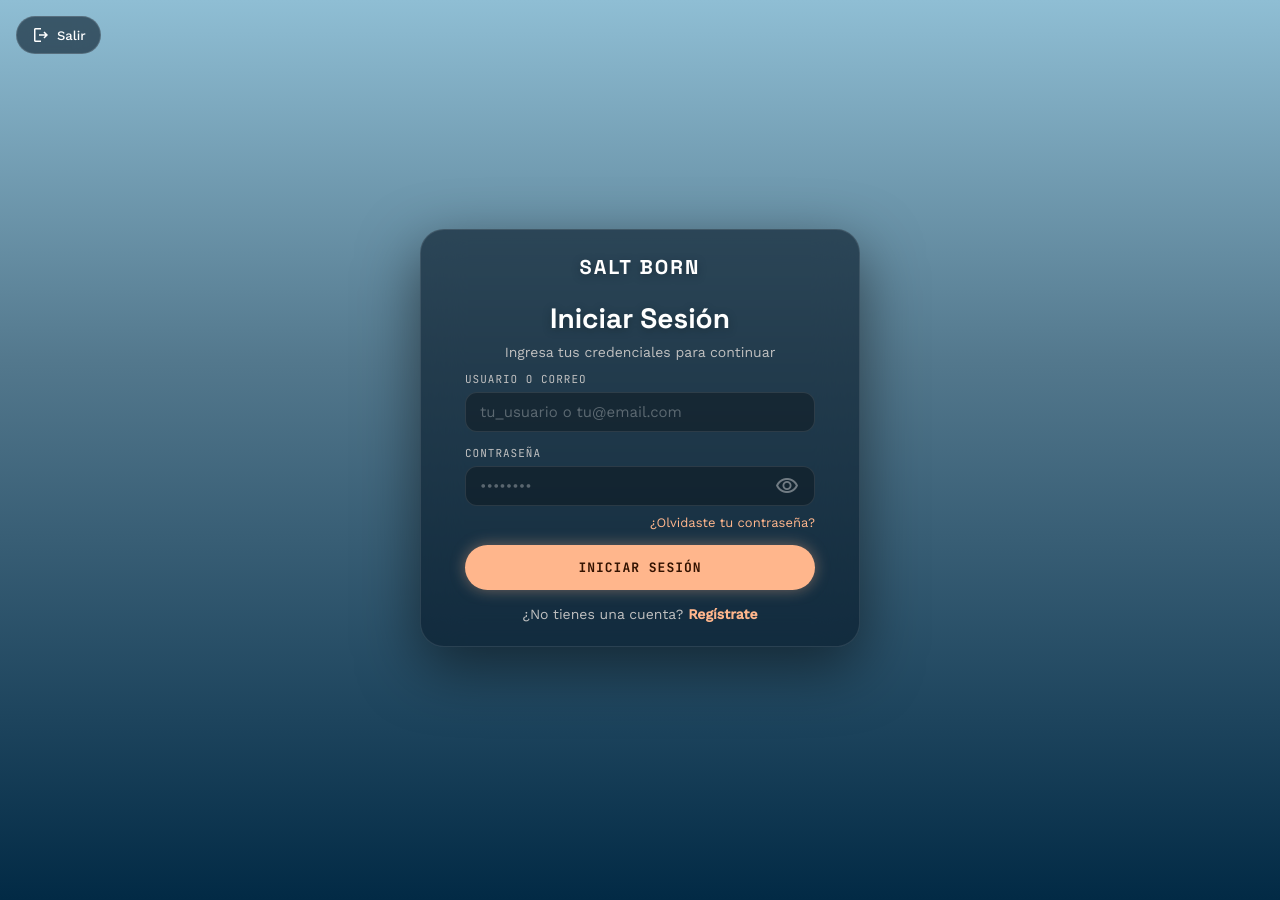
Login › muestra el error del backend si el login falla
Step 1. Type "testuser" into the field labelled "Usuario o Correo" → {"x": 640, "y": 412}, box [465,392,815,432]
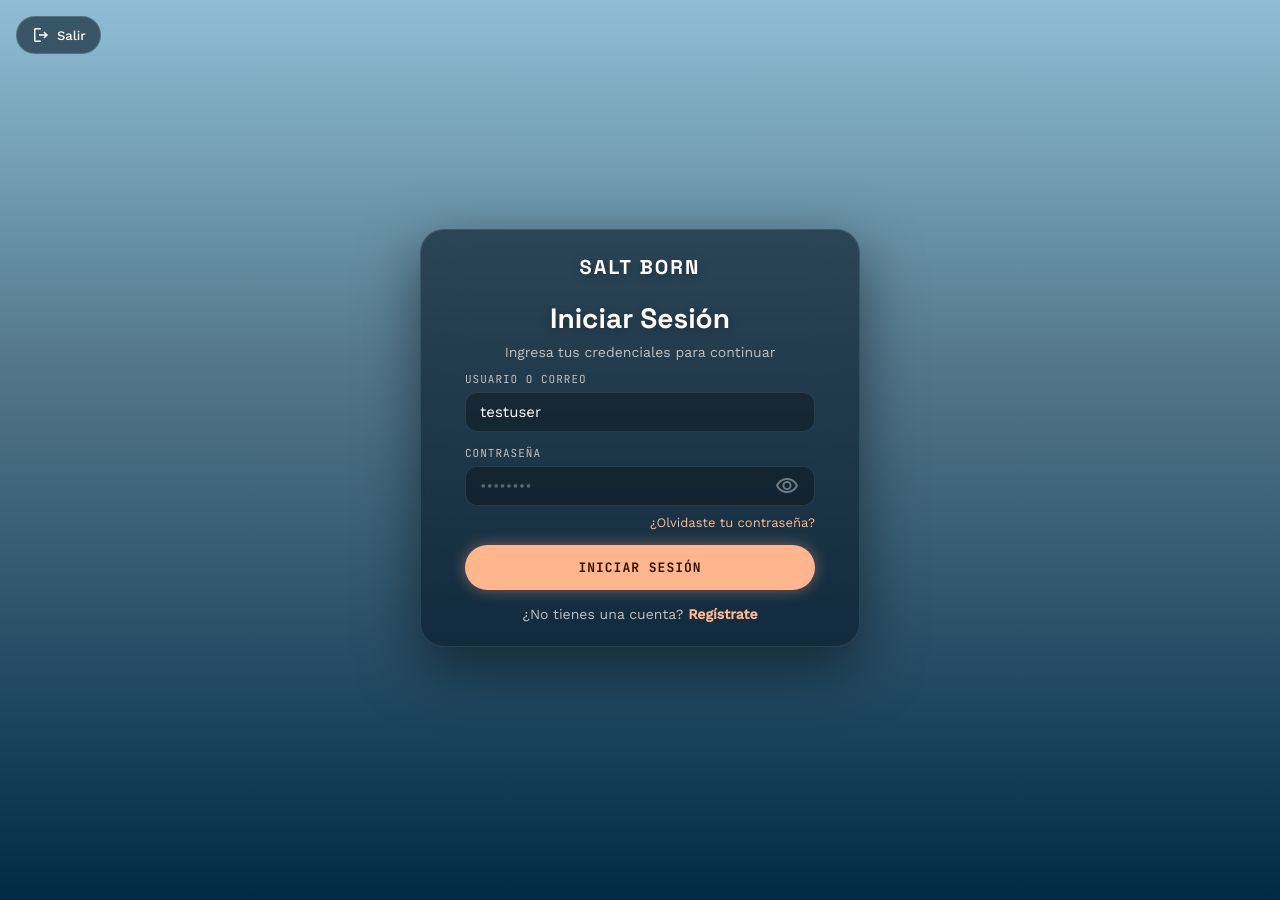
Step 2. Type "wrongpass" into the password field labelled "Contraseña" → {"x": 640, "y": 486}, box [465,466,815,506]
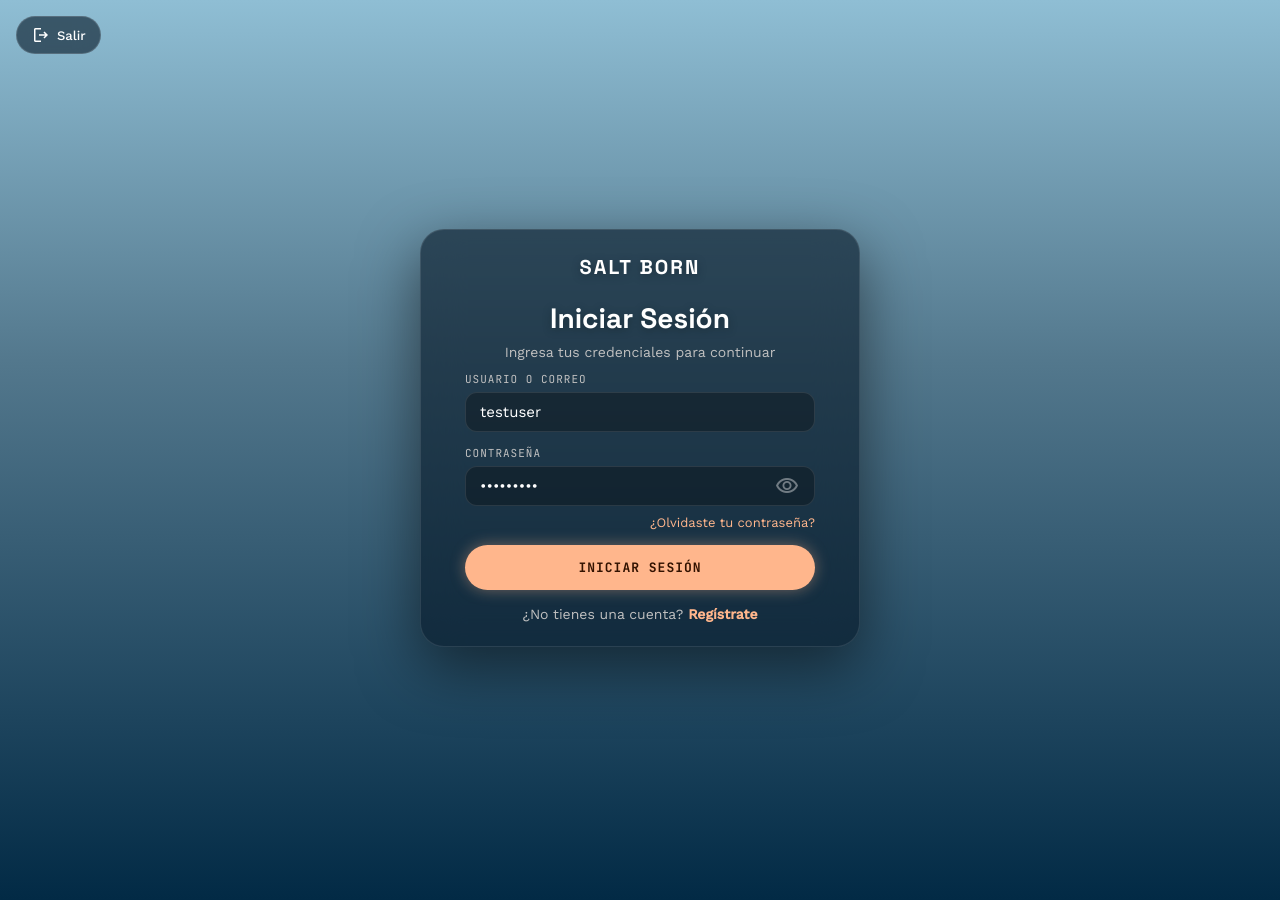
Step 3. Click the button "Iniciar Sesión" → {"x": 640, "y": 568}, box [465,545,815,590]
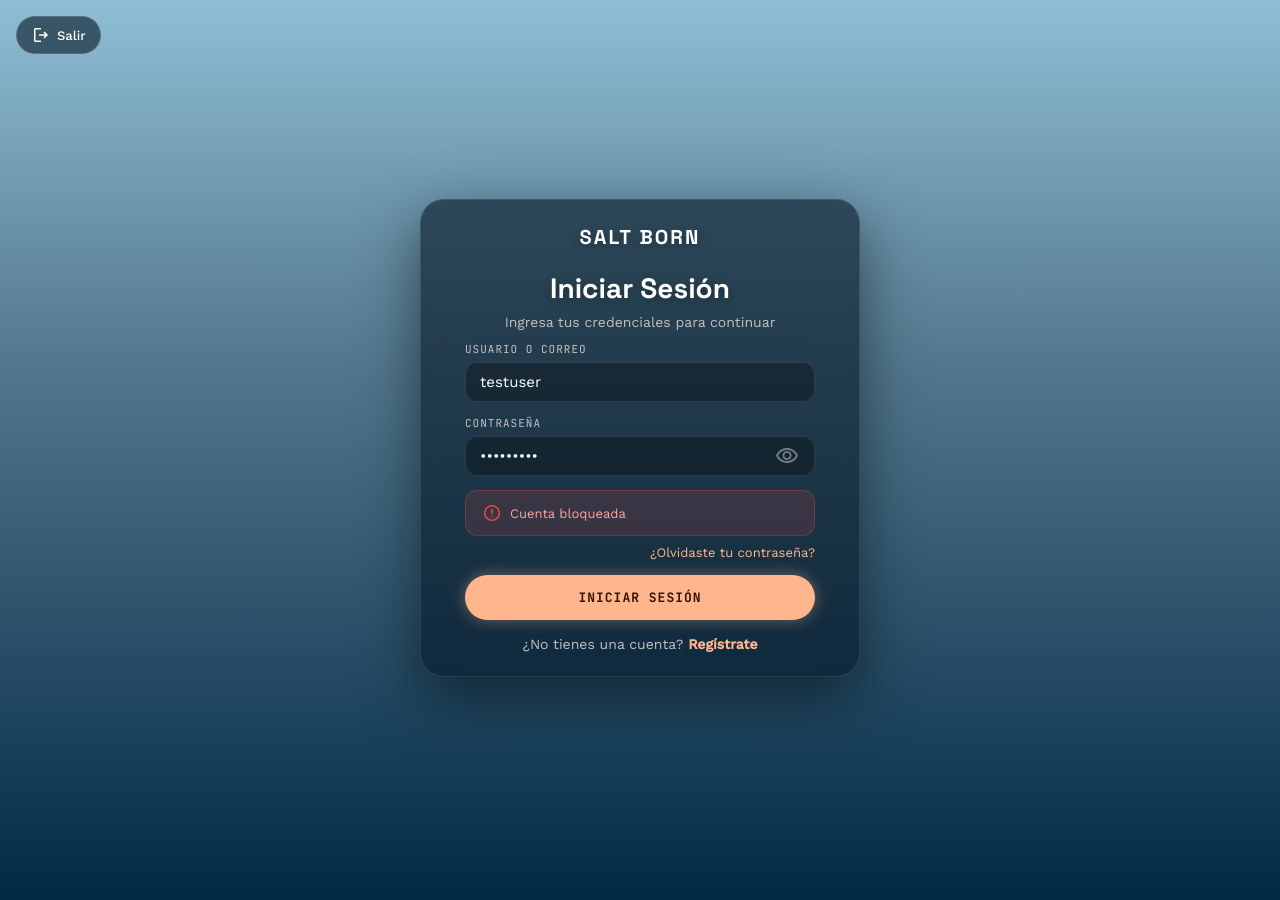
expect the text "Cuenta bloqueada" is shown: met, box [510,506,626,520]
